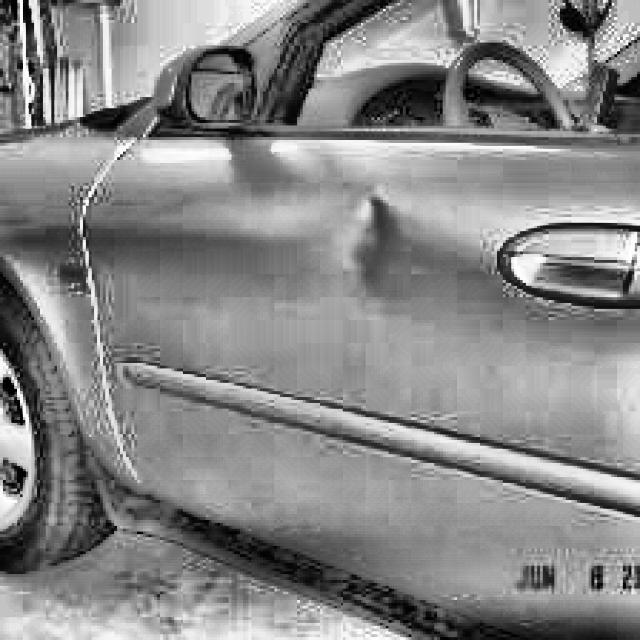door_dent: (338, 198, 412, 294)
